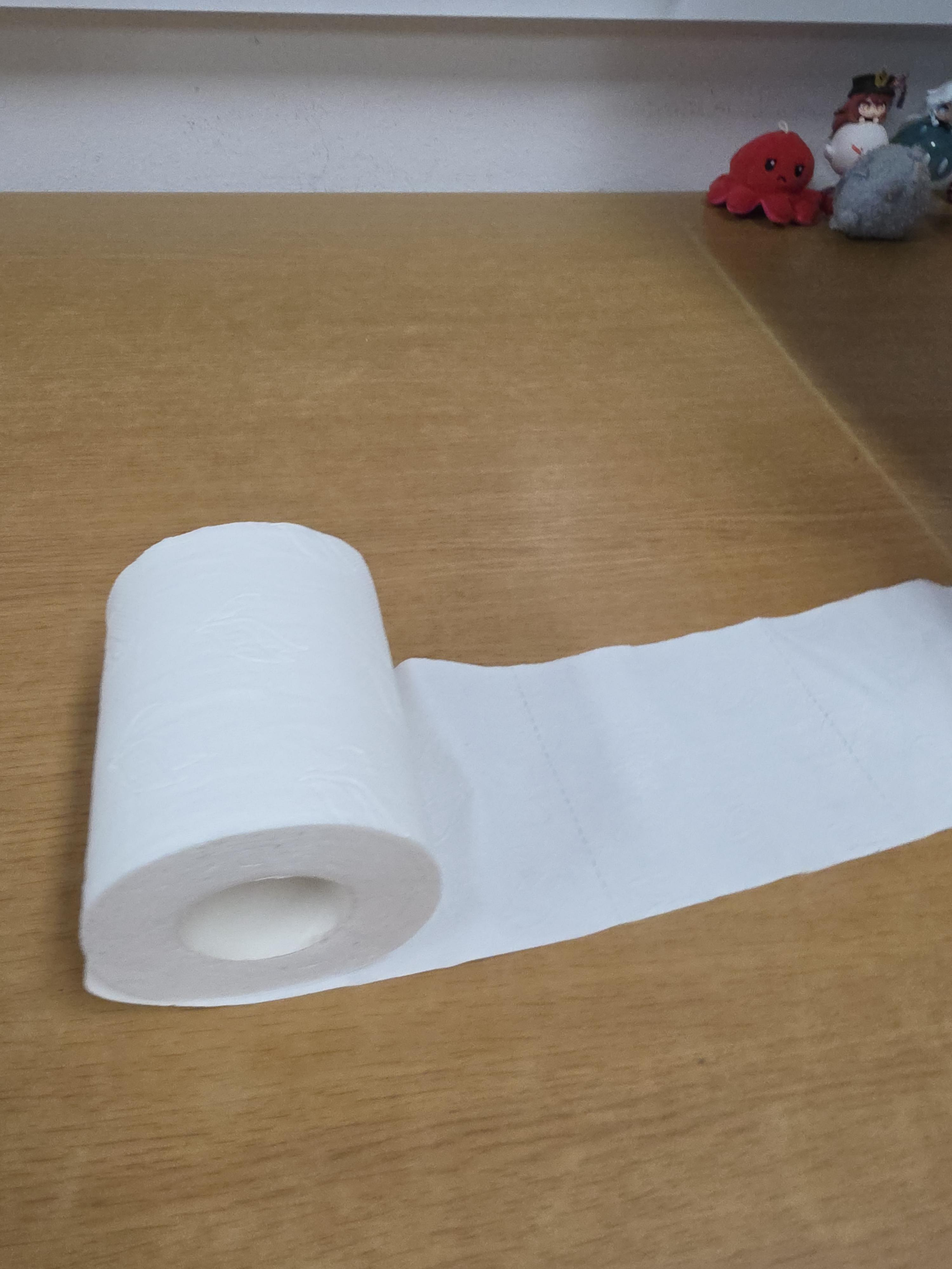tissue: (78, 520, 951, 1009)
